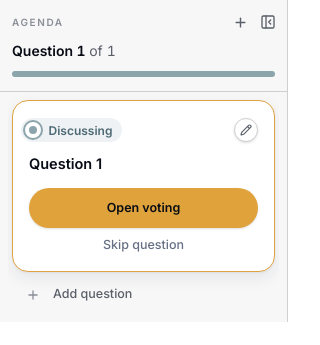
Test: AgendaPanel brainstorm-only questions (F41) › holds the editor while the vote change is still being saved
Click the button named "Edit question 1" at point(246, 130), box [234,118,258,142]
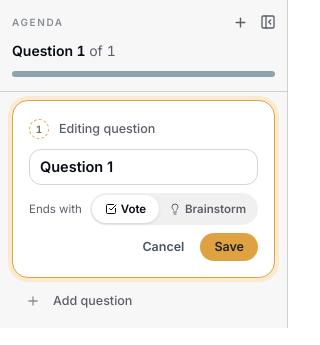
Click the radio button labelled "Brainstorm" at point(208, 209), box [159,195,256,223]
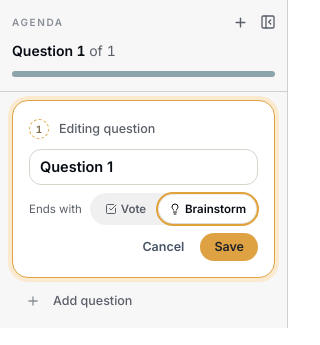
Click the button "Save" at point(229, 247), box [200,233,258,261]
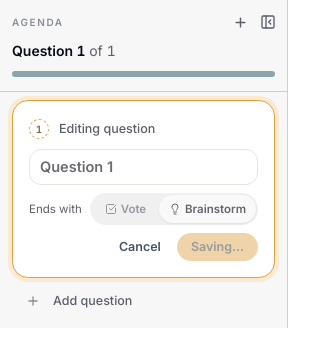
Result: the button "Saving…" is disabled at [177,233,258,261]
